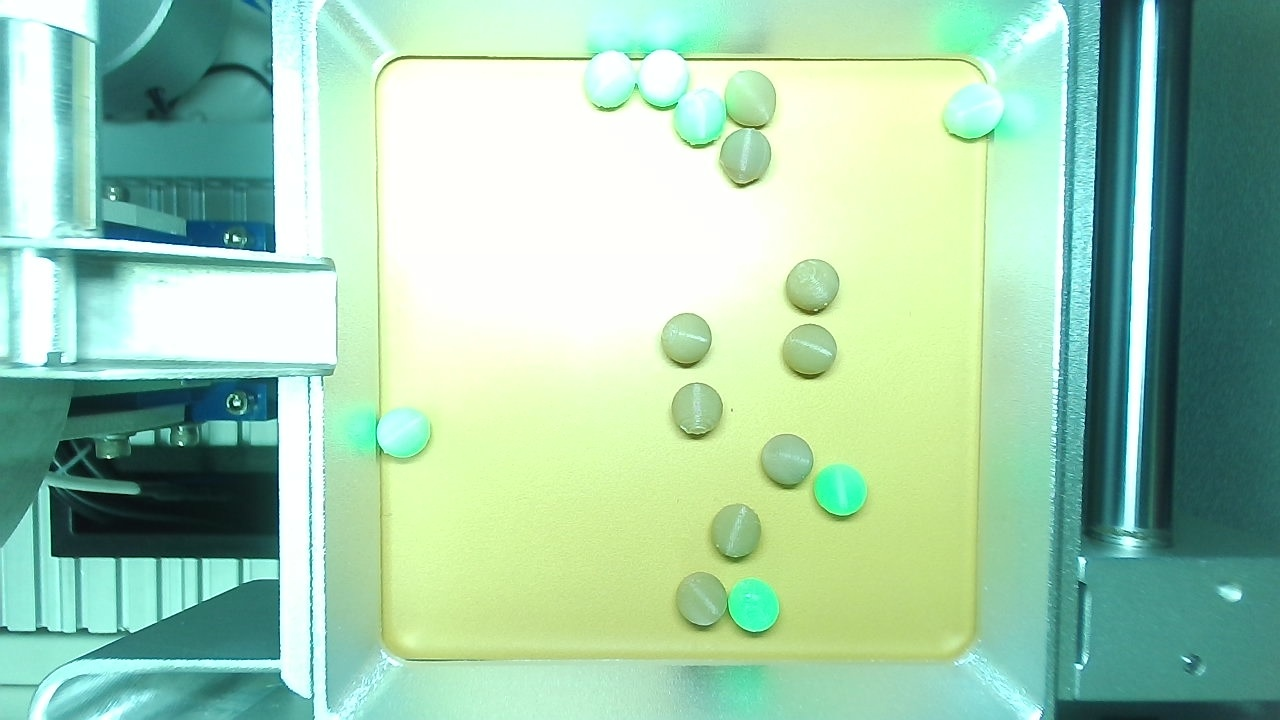XLabel: (316, 41, 383, 109)
YLabel: (737, 60, 817, 135)
none: (613, 192, 956, 535)
transparenexcept: (19, 105, 495, 507)
